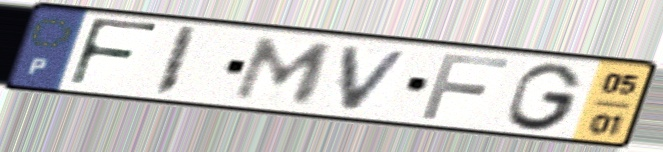F: (64, 15, 164, 90), (417, 51, 515, 122)
G: (504, 60, 587, 133)
I: (149, 23, 202, 100)
M: (228, 34, 341, 107)
V: (338, 44, 417, 114)
